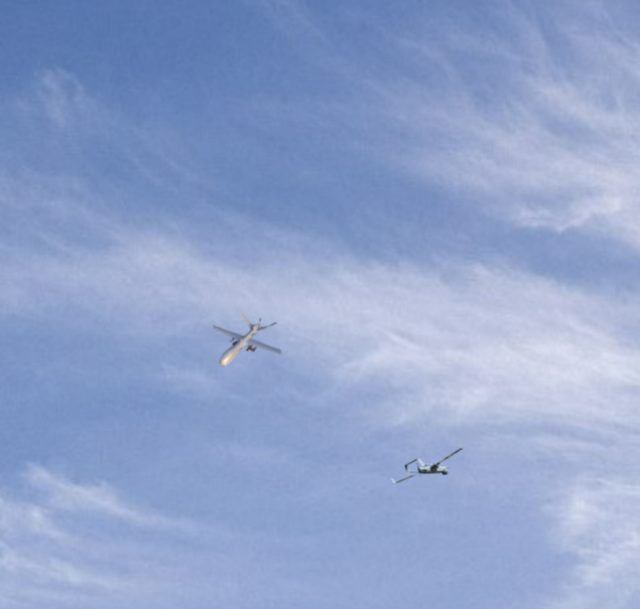military drone: (212, 313, 281, 366), (389, 443, 463, 483)
